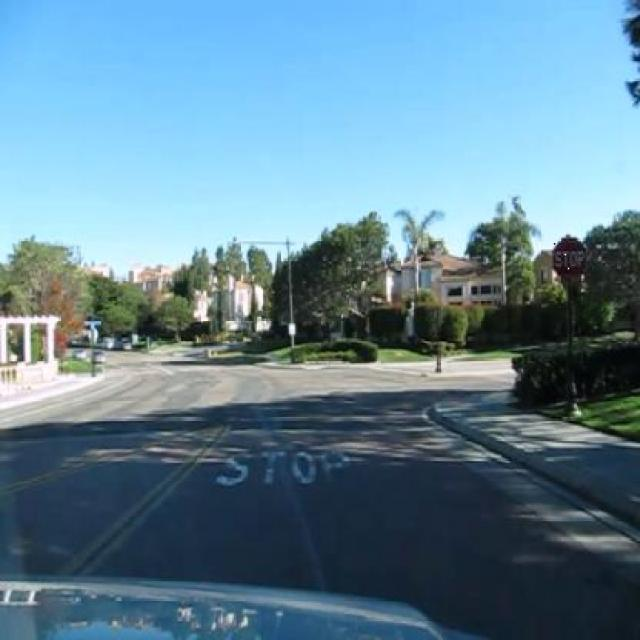stop: (551, 236, 587, 282)
